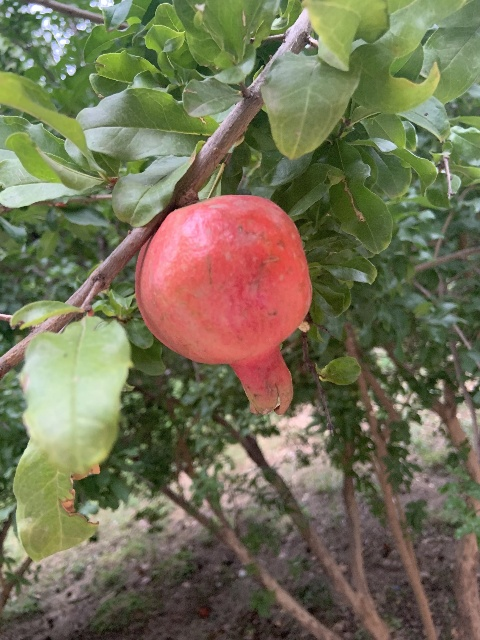ripe: (134, 193, 312, 416)
